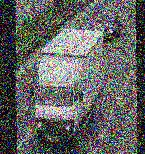truck: (35, 29, 105, 148)
